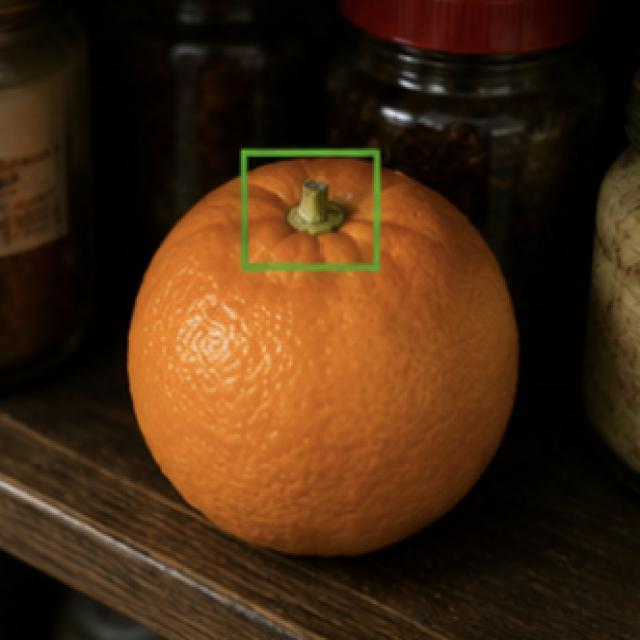Fruit-Stem-Detection: (257, 157, 359, 257)
